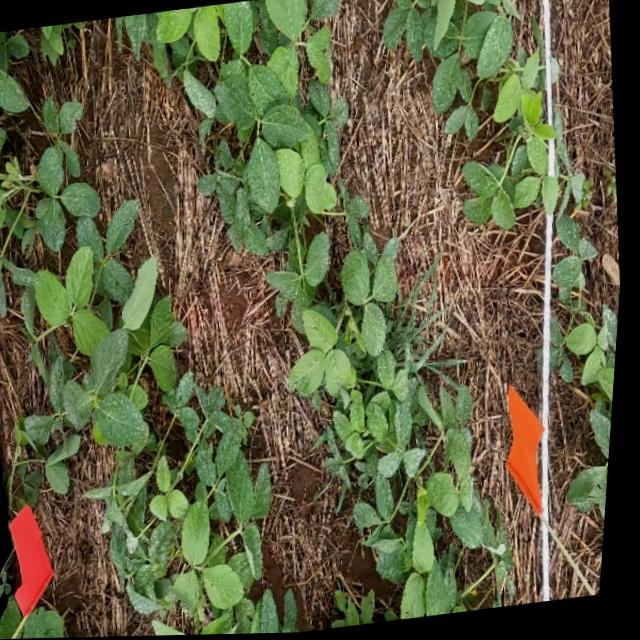grassy_weed: (394, 262, 466, 430)
soy_plant: (0, 99, 278, 636), (123, 0, 402, 398), (383, 0, 599, 312), (333, 371, 513, 621), (557, 309, 623, 525), (5, 598, 73, 639), (41, 22, 82, 64), (342, 592, 382, 629), (379, 351, 400, 390)
